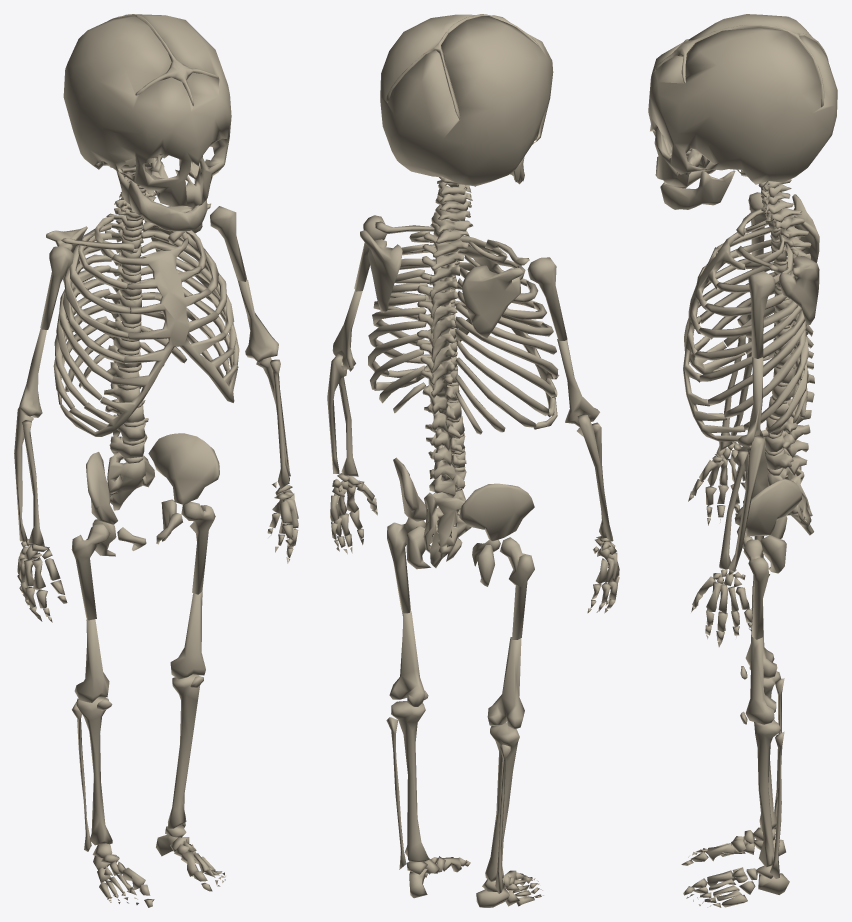
The model's file is pediatric_infant_male.skeletal.LOD3.glb.
The picture shows the model from 3 angles, left to right: view 1: azimuth 30°, elevation 25°; view 2: azimuth 150°, elevation 25°; view 3: azimuth 270°, elevation 25°; orthographic projection. The views are drawn at different scales.
Visible parts, largest first — view 1: PEDIATRIC.INFANT.MALE.SKELETAL.CRANIUM_CORTICAL, PEDIATRIC.INFANT.MALE.SKELETAL.RIBS_CORTICAL, PEDIATRIC.INFANT.MALE.SKELETAL.CARTILAGE_TRUNK, PEDIATRIC.INFANT.MALE.SKELETAL.PELVIS_CORTICAL, PEDIATRIC.INFANT.MALE.SKELETAL.TIBIAE_CORTICAL, PEDIATRIC.INFANT.MALE.SKELETAL.WRISTS_AND_HAND_BONES_CORTICA, PEDIATRIC.INFANT.MALE.SKELETAL.ANKLES_AND_FOOT_CORTICAL, PEDIATRIC.INFANT.MALE.SKELETAL.FEMORA_LOWER_CORTICAL, PEDIATRIC.INFANT.MALE.SKELETAL.FEMORA_UPPER_CORTICAL, PEDIATRIC.INFANT.MALE.SKELETAL.THORACIC_SPINE_CORTICAL, PEDIATRIC.INFANT.MALE.SKELETAL.HUMERI_LOWER_CORTICAL, PEDIATRIC.INFANT.MALE.SKELETAL.HUMERI_UPPER_CORTICAL (+10 smaller); view 2: PEDIATRIC.INFANT.MALE.SKELETAL.CRANIUM_CORTICAL, PEDIATRIC.INFANT.MALE.SKELETAL.RIBS_CORTICAL, PEDIATRIC.INFANT.MALE.SKELETAL.PELVIS_CORTICAL, PEDIATRIC.INFANT.MALE.SKELETAL.THORACIC_SPINE_CORTICAL, PEDIATRIC.INFANT.MALE.SKELETAL.SCAPULAE_CORTICAL, PEDIATRIC.INFANT.MALE.SKELETAL.TIBIAE_CORTICAL, PEDIATRIC.INFANT.MALE.SKELETAL.FEMORA_LOWER_CORTICAL, PEDIATRIC.INFANT.MALE.SKELETAL.WRISTS_AND_HAND_BONES_CORTICA, PEDIATRIC.INFANT.MALE.SKELETAL.CARTILAGE_TRUNK, PEDIATRIC.INFANT.MALE.SKELETAL.FEMORA_UPPER_CORTICAL, PEDIATRIC.INFANT.MALE.SKELETAL.LUMBAR_SPINE_CORTICAL, PEDIATRIC.INFANT.MALE.SKELETAL.ANKLES_AND_FOOT_CORTICAL (+9 smaller); view 3: PEDIATRIC.INFANT.MALE.SKELETAL.CRANIUM_CORTICAL, PEDIATRIC.INFANT.MALE.SKELETAL.RIBS_CORTICAL, PEDIATRIC.INFANT.MALE.SKELETAL.CARTILAGE_TRUNK, PEDIATRIC.INFANT.MALE.SKELETAL.WRISTS_AND_HAND_BONES_CORTICA, PEDIATRIC.INFANT.MALE.SKELETAL.PELVIS_CORTICAL, PEDIATRIC.INFANT.MALE.SKELETAL.ANKLES_AND_FOOT_CORTICAL, PEDIATRIC.INFANT.MALE.SKELETAL.SCAPULAE_CORTICAL, PEDIATRIC.INFANT.MALE.SKELETAL.TIBIAE_CORTICAL, PEDIATRIC.INFANT.MALE.SKELETAL.LUMBAR_SPINE_CORTICAL, PEDIATRIC.INFANT.MALE.SKELETAL.FEMORA_LOWER_CORTICAL, PEDIATRIC.INFANT.MALE.SKELETAL.HUMERI_UPPER_CORTICAL, PEDIATRIC.INFANT.MALE.SKELETAL.MANDIBLE_CORTICAL (+10 smaller).
Boxes of the visible parts, left/top/right/bottom form: PEDIATRIC.INFANT.MALE.SKELETAL.CRANIUM_CORTICAL: left=63, top=14, right=231, bottom=207; PEDIATRIC.INFANT.MALE.SKELETAL.RIBS_CORTICAL: left=53, top=216, right=239, bottom=409; PEDIATRIC.INFANT.MALE.SKELETAL.CARTILAGE_TRUNK: left=60, top=186, right=238, bottom=463; PEDIATRIC.INFANT.MALE.SKELETAL.PELVIS_CORTICAL: left=86, top=433, right=219, bottom=556; PEDIATRIC.INFANT.MALE.SKELETAL.TIBIAE_CORTICAL: left=76, top=674, right=199, bottom=845; PEDIATRIC.INFANT.MALE.SKELETAL.WRISTS_AND_HAND_BONES_CORTICA: left=17, top=482, right=298, bottom=622; PEDIATRIC.INFANT.MALE.SKELETAL.ANKLES_AND_FOOT_CORTICAL: left=92, top=825, right=225, bottom=907; PEDIATRIC.INFANT.MALE.SKELETAL.FEMORA_LOWER_CORTICAL: left=74, top=591, right=205, bottom=702; PEDIATRIC.INFANT.MALE.SKELETAL.FEMORA_UPPER_CORTICAL: left=71, top=501, right=215, bottom=620; PEDIATRIC.INFANT.MALE.SKELETAL.THORACIC_SPINE_CORTICAL: left=103, top=211, right=144, bottom=367; PEDIATRIC.INFANT.MALE.SKELETAL.HUMERI_LOWER_CORTICAL: left=19, top=279, right=278, bottom=417; PEDIATRIC.INFANT.MALE.SKELETAL.HUMERI_UPPER_CORTICAL: left=40, top=206, right=246, bottom=329; PEDIATRIC.INFANT.MALE.SKELETAL.CRANIUM_CORTICAL: left=380, top=14, right=553, bottom=186; PEDIATRIC.INFANT.MALE.SKELETAL.RIBS_CORTICAL: left=368, top=231, right=558, bottom=434; PEDIATRIC.INFANT.MALE.SKELETAL.PELVIS_CORTICAL: left=393, top=457, right=534, bottom=586; PEDIATRIC.INFANT.MALE.SKELETAL.THORACIC_SPINE_CORTICAL: left=417, top=233, right=468, bottom=414; PEDIATRIC.INFANT.MALE.SKELETAL.SCAPULAE_CORTICAL: left=360, top=230, right=523, bottom=337; PEDIATRIC.INFANT.MALE.SKELETAL.TIBIAE_CORTICAL: left=391, top=701, right=519, bottom=881; PEDIATRIC.INFANT.MALE.SKELETAL.FEMORA_LOWER_CORTICAL: left=389, top=610, right=524, bottom=729; PEDIATRIC.INFANT.MALE.SKELETAL.WRISTS_AND_HAND_BONES_CORTICA: left=330, top=473, right=619, bottom=613; PEDIATRIC.INFANT.MALE.SKELETAL.CARTILAGE_TRUNK: left=374, top=219, right=559, bottom=491; PEDIATRIC.INFANT.MALE.SKELETAL.FEMORA_UPPER_CORTICAL: left=387, top=518, right=534, bottom=639; PEDIATRIC.INFANT.MALE.SKELETAL.LUMBAR_SPINE_CORTICAL: left=424, top=402, right=466, bottom=497; PEDIATRIC.INFANT.MALE.SKELETAL.ANKLES_AND_FOOT_CORTICAL: left=406, top=856, right=543, bottom=907; PEDIATRIC.INFANT.MALE.SKELETAL.CRANIUM_CORTICAL: left=648, top=14, right=837, bottom=187; PEDIATRIC.INFANT.MALE.SKELETAL.RIBS_CORTICAL: left=694, top=219, right=808, bottom=433; PEDIATRIC.INFANT.MALE.SKELETAL.CARTILAGE_TRUNK: left=683, top=184, right=789, bottom=475; PEDIATRIC.INFANT.MALE.SKELETAL.WRISTS_AND_HAND_BONES_CORTICA: left=688, top=441, right=752, bottom=647; PEDIATRIC.INFANT.MALE.SKELETAL.PELVIS_CORTICAL: left=733, top=437, right=801, bottom=573; PEDIATRIC.INFANT.MALE.SKELETAL.ANKLES_AND_FOOT_CORTICAL: left=681, top=827, right=789, bottom=907; PEDIATRIC.INFANT.MALE.SKELETAL.SCAPULAE_CORTICAL: left=779, top=194, right=819, bottom=324; PEDIATRIC.INFANT.MALE.SKELETAL.TIBIAE_CORTICAL: left=754, top=671, right=781, bottom=866; PEDIATRIC.INFANT.MALE.SKELETAL.LUMBAR_SPINE_CORTICAL: left=765, top=384, right=814, bottom=475; PEDIATRIC.INFANT.MALE.SKELETAL.FEMORA_LOWER_CORTICAL: left=745, top=586, right=777, bottom=724; PEDIATRIC.INFANT.MALE.SKELETAL.HUMERI_UPPER_CORTICAL: left=748, top=192, right=775, bottom=358; PEDIATRIC.INFANT.MALE.SKELETAL.MANDIBLE_CORTICAL: left=660, top=161, right=735, bottom=209.
Size of the model in its own units: 0.252 by 0.755 by 0.1512.
